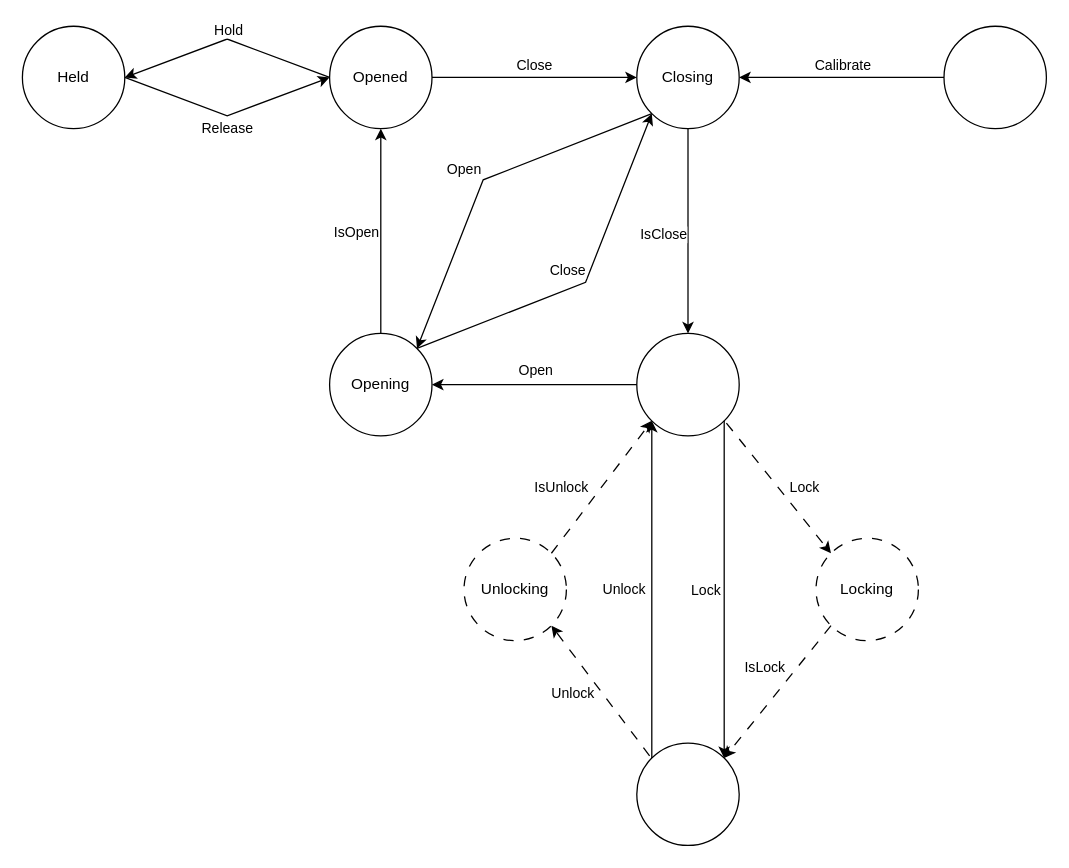
Some shapes in this 1069 by 868 pixel diagram are drawn without their labels. Here are the shapes that lost their labels. From the top down, the box of each, then its label:
(943, 25, 1046, 129): Undefined
(636, 332, 739, 436): Closed
(636, 742, 739, 845): Locked
